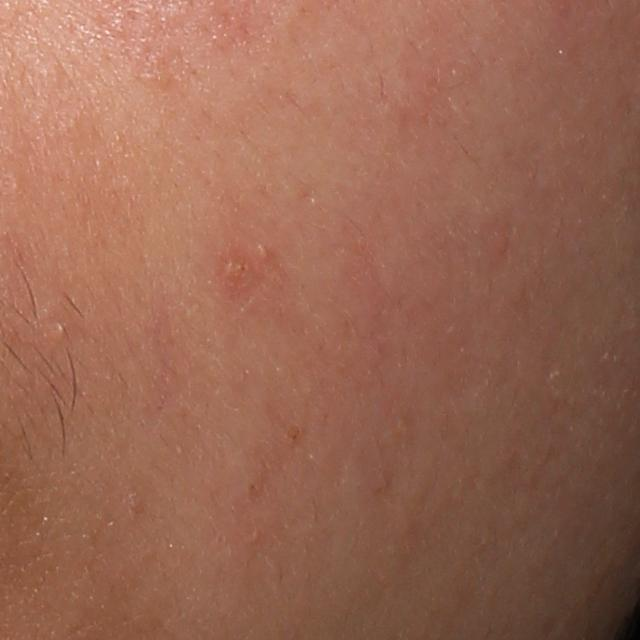comedo: (53, 319, 72, 338)
papule: (224, 256, 249, 282)
